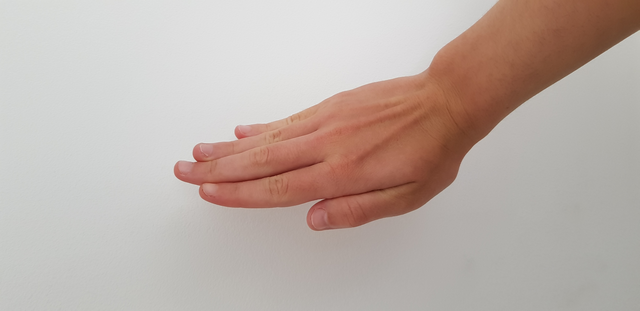Paper: (146, 80, 490, 235)
